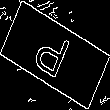P_SW: (32, 24, 78, 86)
